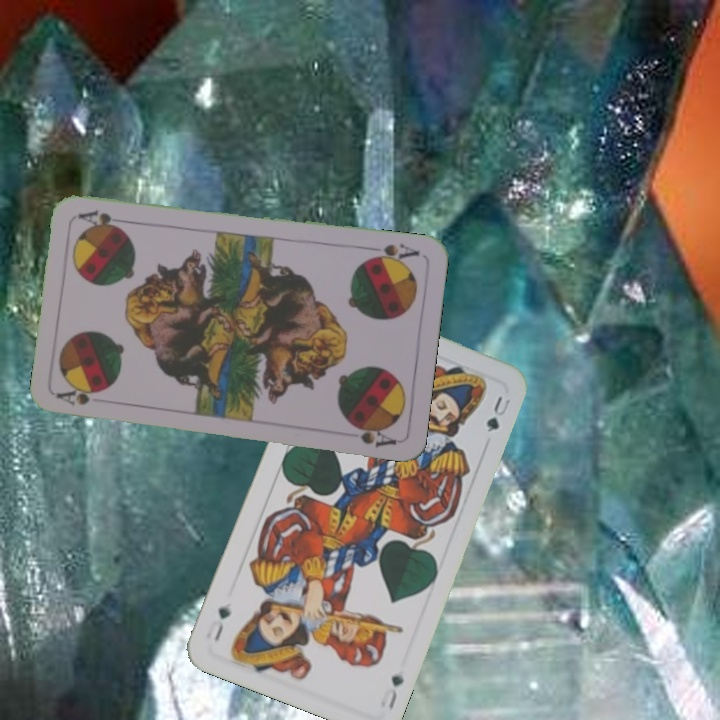GU: (377, 670, 407, 713)
SA: (363, 240, 422, 266), (53, 386, 101, 408)
